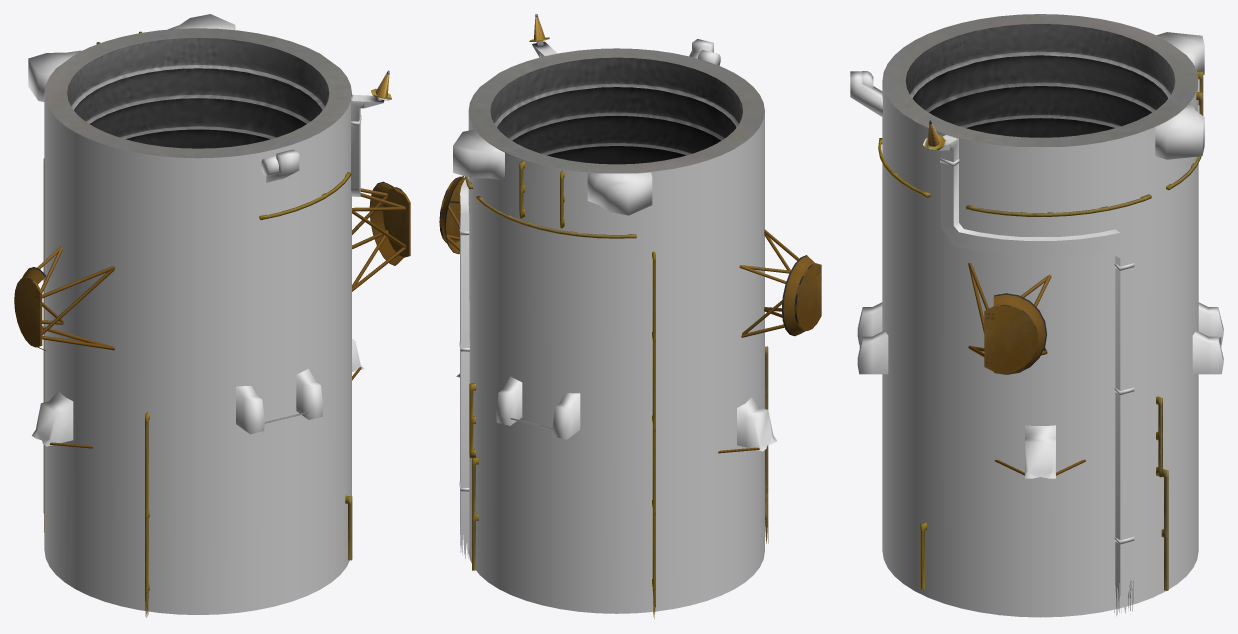
File: hubble-light-shield.glb
The picture shows the model from 3 angles, left to right: view 1: azimuth 30°, elevation 25°; view 2: azimuth 150°, elevation 25°; view 3: azimuth 270°, elevation 25°; orthographic projection. The views are drawn at different scales.
Visible parts, largest first — view 1: light-shield; view 2: light-shield; view 3: light-shield.
Part boxes in pixels (left/top/right/bottom): light-shield: left=14, top=14, right=410, bottom=617; light-shield: left=439, top=14, right=821, bottom=618; light-shield: left=850, top=14, right=1223, bottom=617.
Bounding box in the file's own units: 4.18 × 5.31 × 3.55.
1 material, 1 textured.
